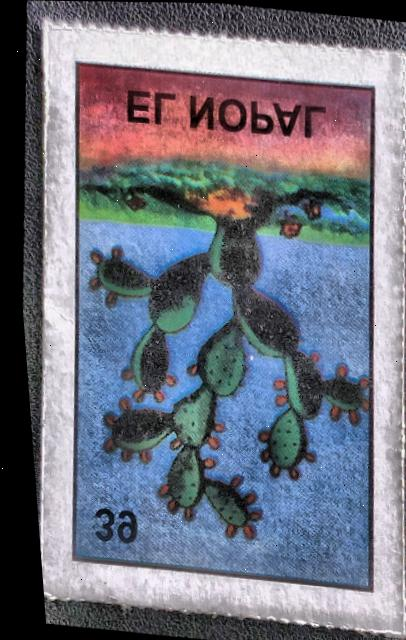El Nopal: (21, 33, 406, 610)
